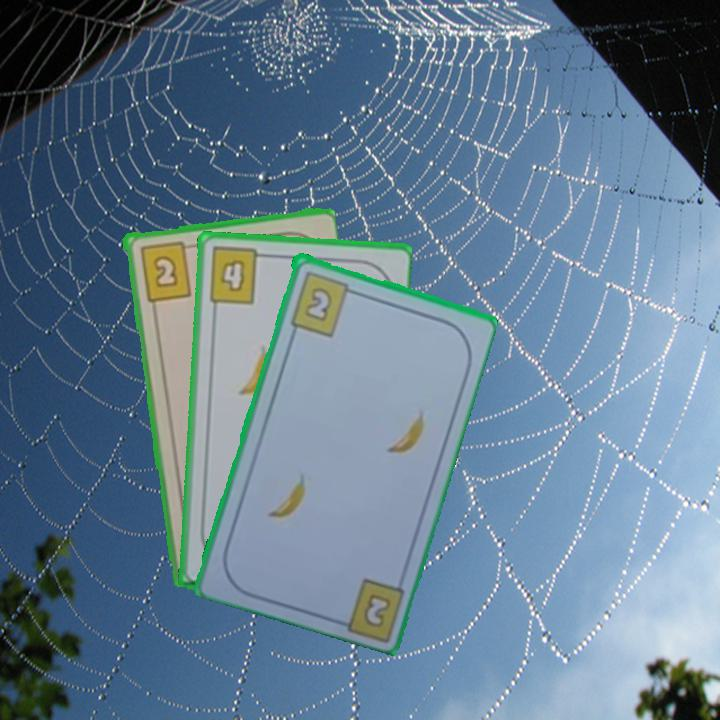2b: (286, 267, 360, 339), (136, 237, 197, 304), (362, 593, 390, 627)
4b: (205, 244, 270, 307)
